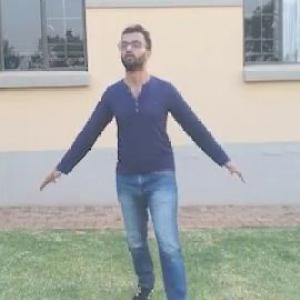land: (62, 18, 260, 278)
